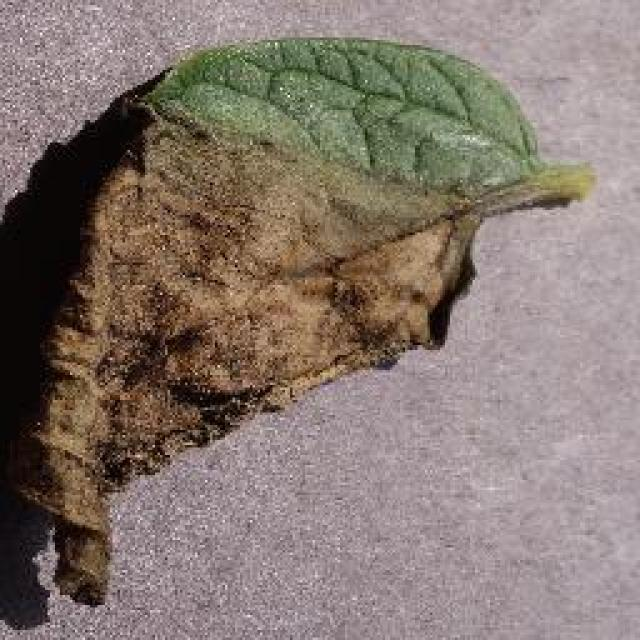Potato___Late_blight: (3, 37, 596, 608)
